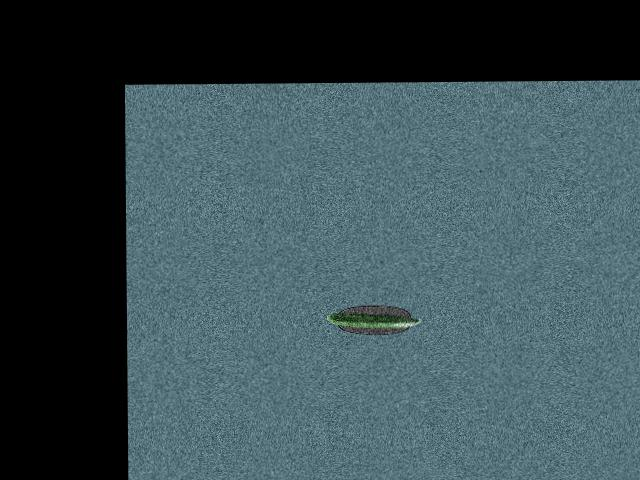cucumber: (327, 311, 422, 327)
